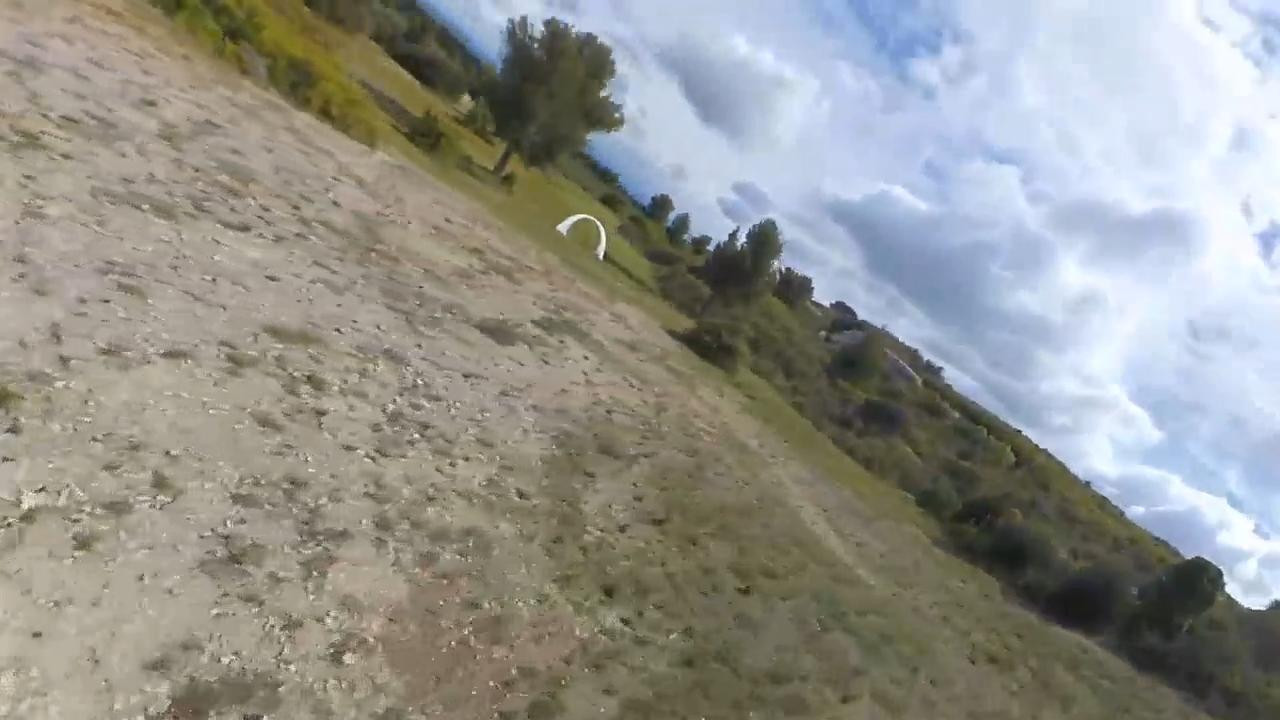gate: (555, 213, 607, 261)
